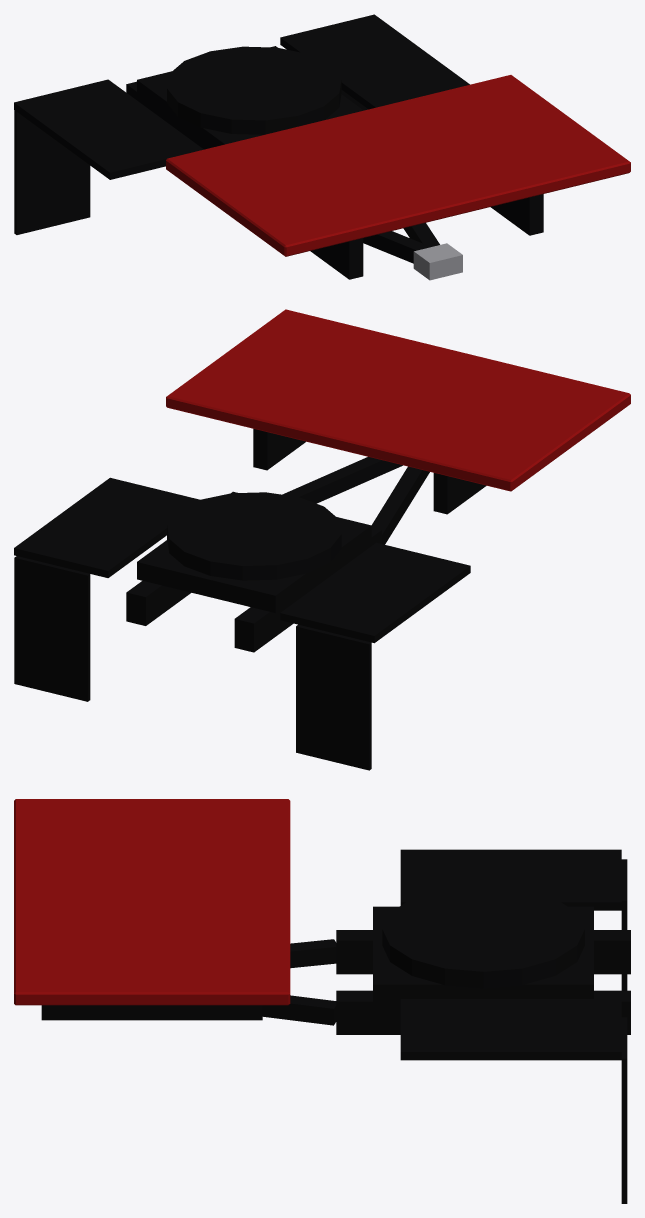
File: Dolly.obj
3 views of the same model, one above another, from view 1: azimuth 30°, elevation 25°; view 2: azimuth 150°, elevation 25°; view 3: azimuth 270°, elevation 25° (orthographic). The views are drawn at different scales.
Visible parts, largest first — view 1: Trim, Body, Chrome; view 2: Trim, Body; view 3: Trim, Body.
Part boxes in pixels (x1=…): Trim: x1=14, y1=14, x2=543, y2=279; Body: x1=166, y1=75, x2=630, y2=256; Chrome: x1=413, y1=243, x2=462, y2=280; Trim: x1=14, y1=429, x2=486, y2=770; Body: x1=166, y1=309, x2=630, y2=491; Trim: x1=41, y1=849, x2=630, y2=1203; Body: x1=14, y1=799, x2=290, y2=1005.
Size of the model in its own units: 2.6 by 1.25 by 3.35.
